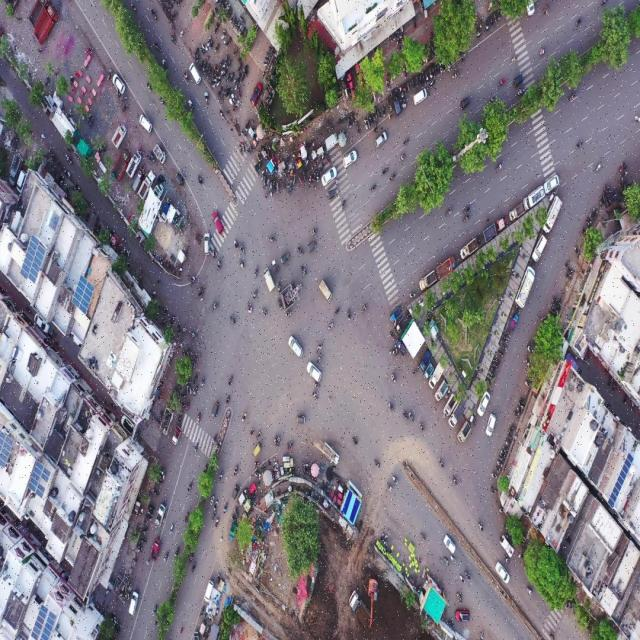3W: (250, 440, 266, 462), (294, 407, 307, 430), (459, 93, 473, 112), (174, 170, 188, 189), (324, 187, 338, 205), (305, 237, 318, 254), (210, 398, 221, 418), (280, 247, 292, 265), (512, 70, 524, 88), (230, 482, 240, 500)
Cars: (286, 336, 308, 362), (532, 234, 547, 266), (492, 561, 512, 584), (484, 412, 500, 438), (211, 208, 225, 237), (304, 360, 324, 380), (498, 534, 514, 557), (441, 534, 460, 553), (477, 391, 490, 416), (543, 174, 560, 193), (201, 228, 211, 260), (341, 148, 357, 168), (188, 62, 202, 84), (412, 88, 428, 107), (250, 82, 263, 105), (203, 578, 215, 602), (452, 608, 472, 622), (391, 88, 401, 116), (320, 168, 336, 185), (128, 590, 138, 617), (138, 114, 152, 133), (113, 74, 126, 94), (374, 130, 387, 149), (168, 169, 169, 170)
LCV: (515, 265, 537, 307), (544, 196, 564, 232), (138, 169, 154, 201), (523, 186, 545, 209), (436, 254, 455, 279), (449, 402, 465, 428), (323, 442, 340, 466), (429, 362, 443, 391), (458, 238, 477, 259), (418, 270, 437, 291), (316, 279, 332, 303), (150, 538, 164, 565), (127, 150, 141, 177), (434, 378, 449, 402), (152, 140, 166, 163), (155, 498, 166, 527), (458, 420, 470, 444), (112, 123, 126, 143), (418, 350, 432, 370), (394, 314, 408, 334), (264, 268, 276, 291), (443, 394, 455, 416), (508, 203, 524, 219), (507, 313, 519, 332), (325, 133, 338, 150), (389, 307, 402, 323), (395, 338, 407, 355), (172, 426, 182, 446), (424, 364, 434, 379)
M2W: (566, 90, 577, 104), (194, 409, 202, 427), (536, 47, 548, 59), (442, 555, 452, 569), (326, 319, 336, 333), (199, 372, 206, 392), (573, 16, 583, 30), (232, 461, 240, 478), (350, 434, 360, 446), (400, 136, 410, 148), (388, 171, 398, 183), (497, 76, 507, 88), (511, 54, 520, 67), (417, 418, 424, 434), (373, 458, 381, 472), (195, 172, 202, 188), (154, 42, 162, 56), (146, 80, 154, 94), (168, 520, 175, 536), (182, 510, 190, 524), (151, 602, 158, 618), (309, 226, 319, 237), (455, 592, 464, 604), (385, 481, 394, 493), (313, 342, 322, 354), (228, 314, 237, 326), (547, 628, 556, 640), (201, 460, 208, 475), (210, 430, 217, 445), (458, 572, 466, 585), (450, 475, 458, 488), (311, 380, 321, 390), (575, 140, 585, 150), (268, 234, 277, 245), (443, 208, 452, 219), (161, 56, 168, 70), (464, 570, 472, 582), (450, 554, 458, 566), (217, 470, 225, 482), (475, 26, 481, 42), (409, 410, 416, 423), (346, 309, 353, 322), (246, 302, 253, 315), (232, 239, 239, 252), (187, 97, 194, 110), (173, 545, 180, 558), (517, 85, 524, 98), (595, 162, 602, 175), (227, 374, 233, 389), (242, 411, 248, 426), (248, 426, 257, 436), (397, 154, 407, 163), (462, 205, 471, 215), (462, 214, 471, 224), (495, 162, 504, 172), (106, 68, 112, 83), (477, 522, 485, 533), (360, 303, 368, 314), (438, 456, 444, 470), (261, 306, 268, 318), (276, 299, 282, 313), (297, 246, 304, 258), (225, 394, 232, 406), (214, 516, 220, 530), (186, 479, 192, 493), (333, 306, 341, 316), (217, 256, 222, 272), (170, 10, 178, 20), (451, 70, 459, 80), (488, 96, 496, 106), (151, 8, 157, 21), (163, 550, 169, 563), (223, 501, 229, 514), (192, 442, 198, 455), (370, 181, 376, 194), (527, 585, 533, 598), (232, 45, 238, 58), (204, 92, 210, 105), (300, 264, 307, 275), (159, 97, 166, 108), (477, 629, 484, 640), (390, 373, 396, 385), (388, 402, 394, 414), (252, 288, 258, 300), (211, 301, 220, 309), (504, 555, 512, 564), (240, 129, 248, 138), (68, 74, 74, 86), (130, 3, 138, 12), (208, 38, 214, 50), (226, 34, 232, 46), (277, 278, 282, 292), (192, 559, 197, 573), (524, 379, 531, 389), (341, 198, 346, 212), (194, 54, 201, 64), (399, 85, 404, 99), (392, 475, 398, 486), (183, 71, 189, 82), (211, 510, 217, 521), (228, 13, 234, 24), (217, 86, 223, 97), (324, 154, 330, 165), (254, 265, 259, 278), (485, 21, 490, 34), (489, 16, 494, 29), (490, 472, 498, 480), (121, 103, 129, 111), (420, 532, 427, 541), (492, 357, 501, 364), (387, 333, 396, 340), (403, 409, 408, 421), (239, 260, 245, 270), (210, 494, 215, 506), (255, 429, 261, 439), (382, 165, 388, 175), (513, 410, 519, 420), (286, 180, 292, 190), (86, 113, 92, 123), (214, 42, 220, 52), (214, 22, 219, 34), (221, 28, 226, 40), (224, 54, 230, 64), (193, 46, 198, 58), (229, 72, 234, 84), (238, 62, 244, 72), (236, 73, 242, 83), (247, 146, 253, 156), (386, 96, 391, 108), (493, 11, 497, 26), (311, 392, 318, 400), (517, 401, 525, 408), (120, 95, 128, 102), (429, 80, 436, 88), (409, 291, 416, 299), (139, 537, 147, 544), (317, 353, 323, 362), (288, 187, 294, 196), (263, 174, 267, 187), (260, 170, 264, 183), (237, 86, 241, 99), (348, 117, 352, 130), (386, 80, 390, 93), (382, 105, 386, 118), (373, 105, 377, 118), (214, 500, 219, 510), (298, 175, 303, 185), (227, 59, 232, 69), (225, 72, 230, 82), (199, 60, 204, 70), (495, 462, 503, 468), (499, 449, 507, 455), (502, 446, 510, 452), (490, 362, 498, 368), (282, 182, 286, 194), (266, 178, 270, 190), (90, 116, 94, 128), (234, 18, 238, 30), (238, 24, 242, 36), (312, 170, 316, 182), (377, 109, 381, 121), (436, 63, 440, 75), (142, 528, 148, 536), (144, 516, 152, 522), (500, 338, 509, 343), (502, 330, 511, 335), (219, 58, 224, 67), (477, 233, 481, 244), (208, 67, 212, 78), (495, 467, 501, 474), (504, 440, 511, 446), (516, 406, 523, 412), (501, 346, 508, 352), (490, 367, 497, 373), (202, 44, 208, 51), (146, 510, 153, 516), (213, 64, 217, 74), (217, 76, 221, 86), (203, 61, 207, 71), (212, 78, 216, 88), (432, 68, 436, 78), (276, 182, 279, 195), (238, 142, 241, 155), (316, 170, 319, 183), (419, 75, 422, 88), (498, 351, 504, 357), (273, 180, 276, 192), (207, 34, 210, 46), (217, 67, 220, 79), (234, 79, 237, 91), (357, 124, 360, 136), (351, 113, 354, 125), (367, 118, 370, 130), (369, 113, 372, 125), (407, 81, 410, 93), (411, 76, 414, 88), (497, 457, 504, 462), (303, 170, 306, 181), (270, 181, 273, 192), (374, 122, 377, 133), (423, 75, 426, 86), (293, 176, 296, 186), (416, 74, 418, 88), (242, 141, 244, 154), (241, 73, 244, 81), (430, 68, 432, 80)
Truck: (348, 590, 373, 632), (35, 1, 56, 45), (113, 148, 128, 181)
